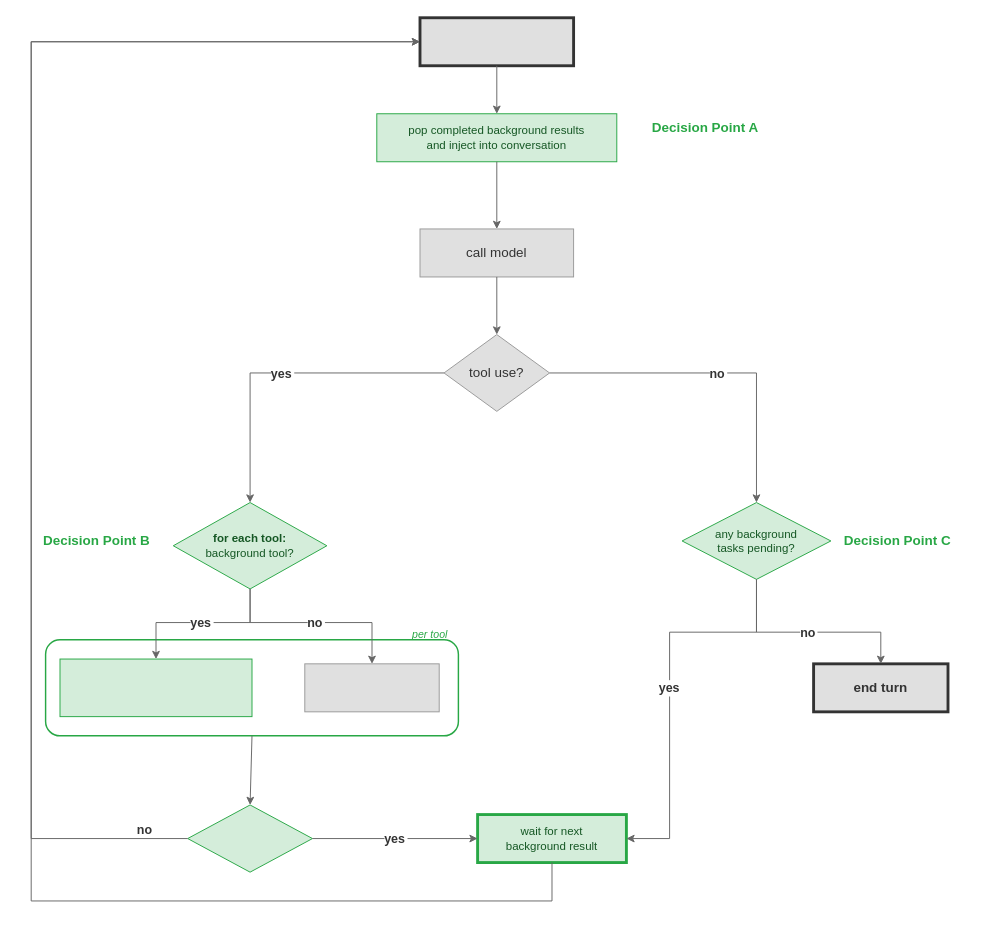
This 1002x925 diagram has some shape labels left out. Each missing label, with the box of its shape:
1. fork agent 2. dispatch background task 3. return ACK tool result: (59, 658, 252, 717)
all results are ACKs?: (187, 804, 312, 872)
call tool: (304, 663, 439, 712)
start turn: (418, 16, 575, 67)
